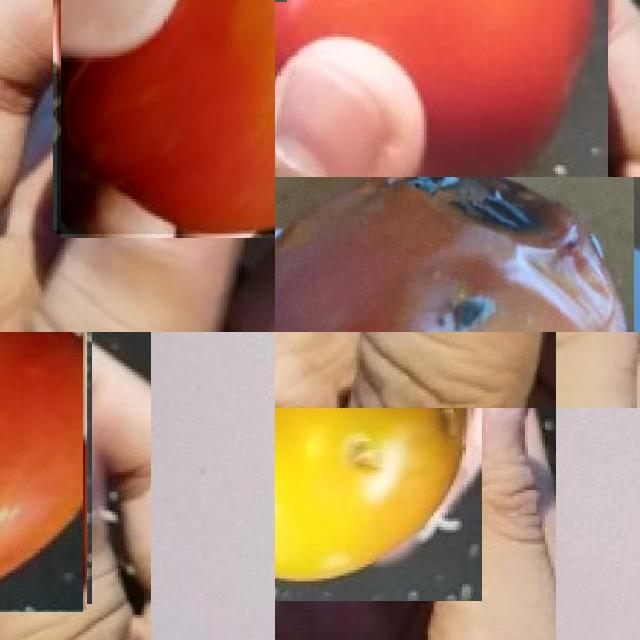Fresh Tomato: (275, 0, 608, 177), (57, 0, 275, 234), (0, 332, 85, 610)
Rotten Tomato: (275, 177, 634, 332), (275, 408, 482, 601)
